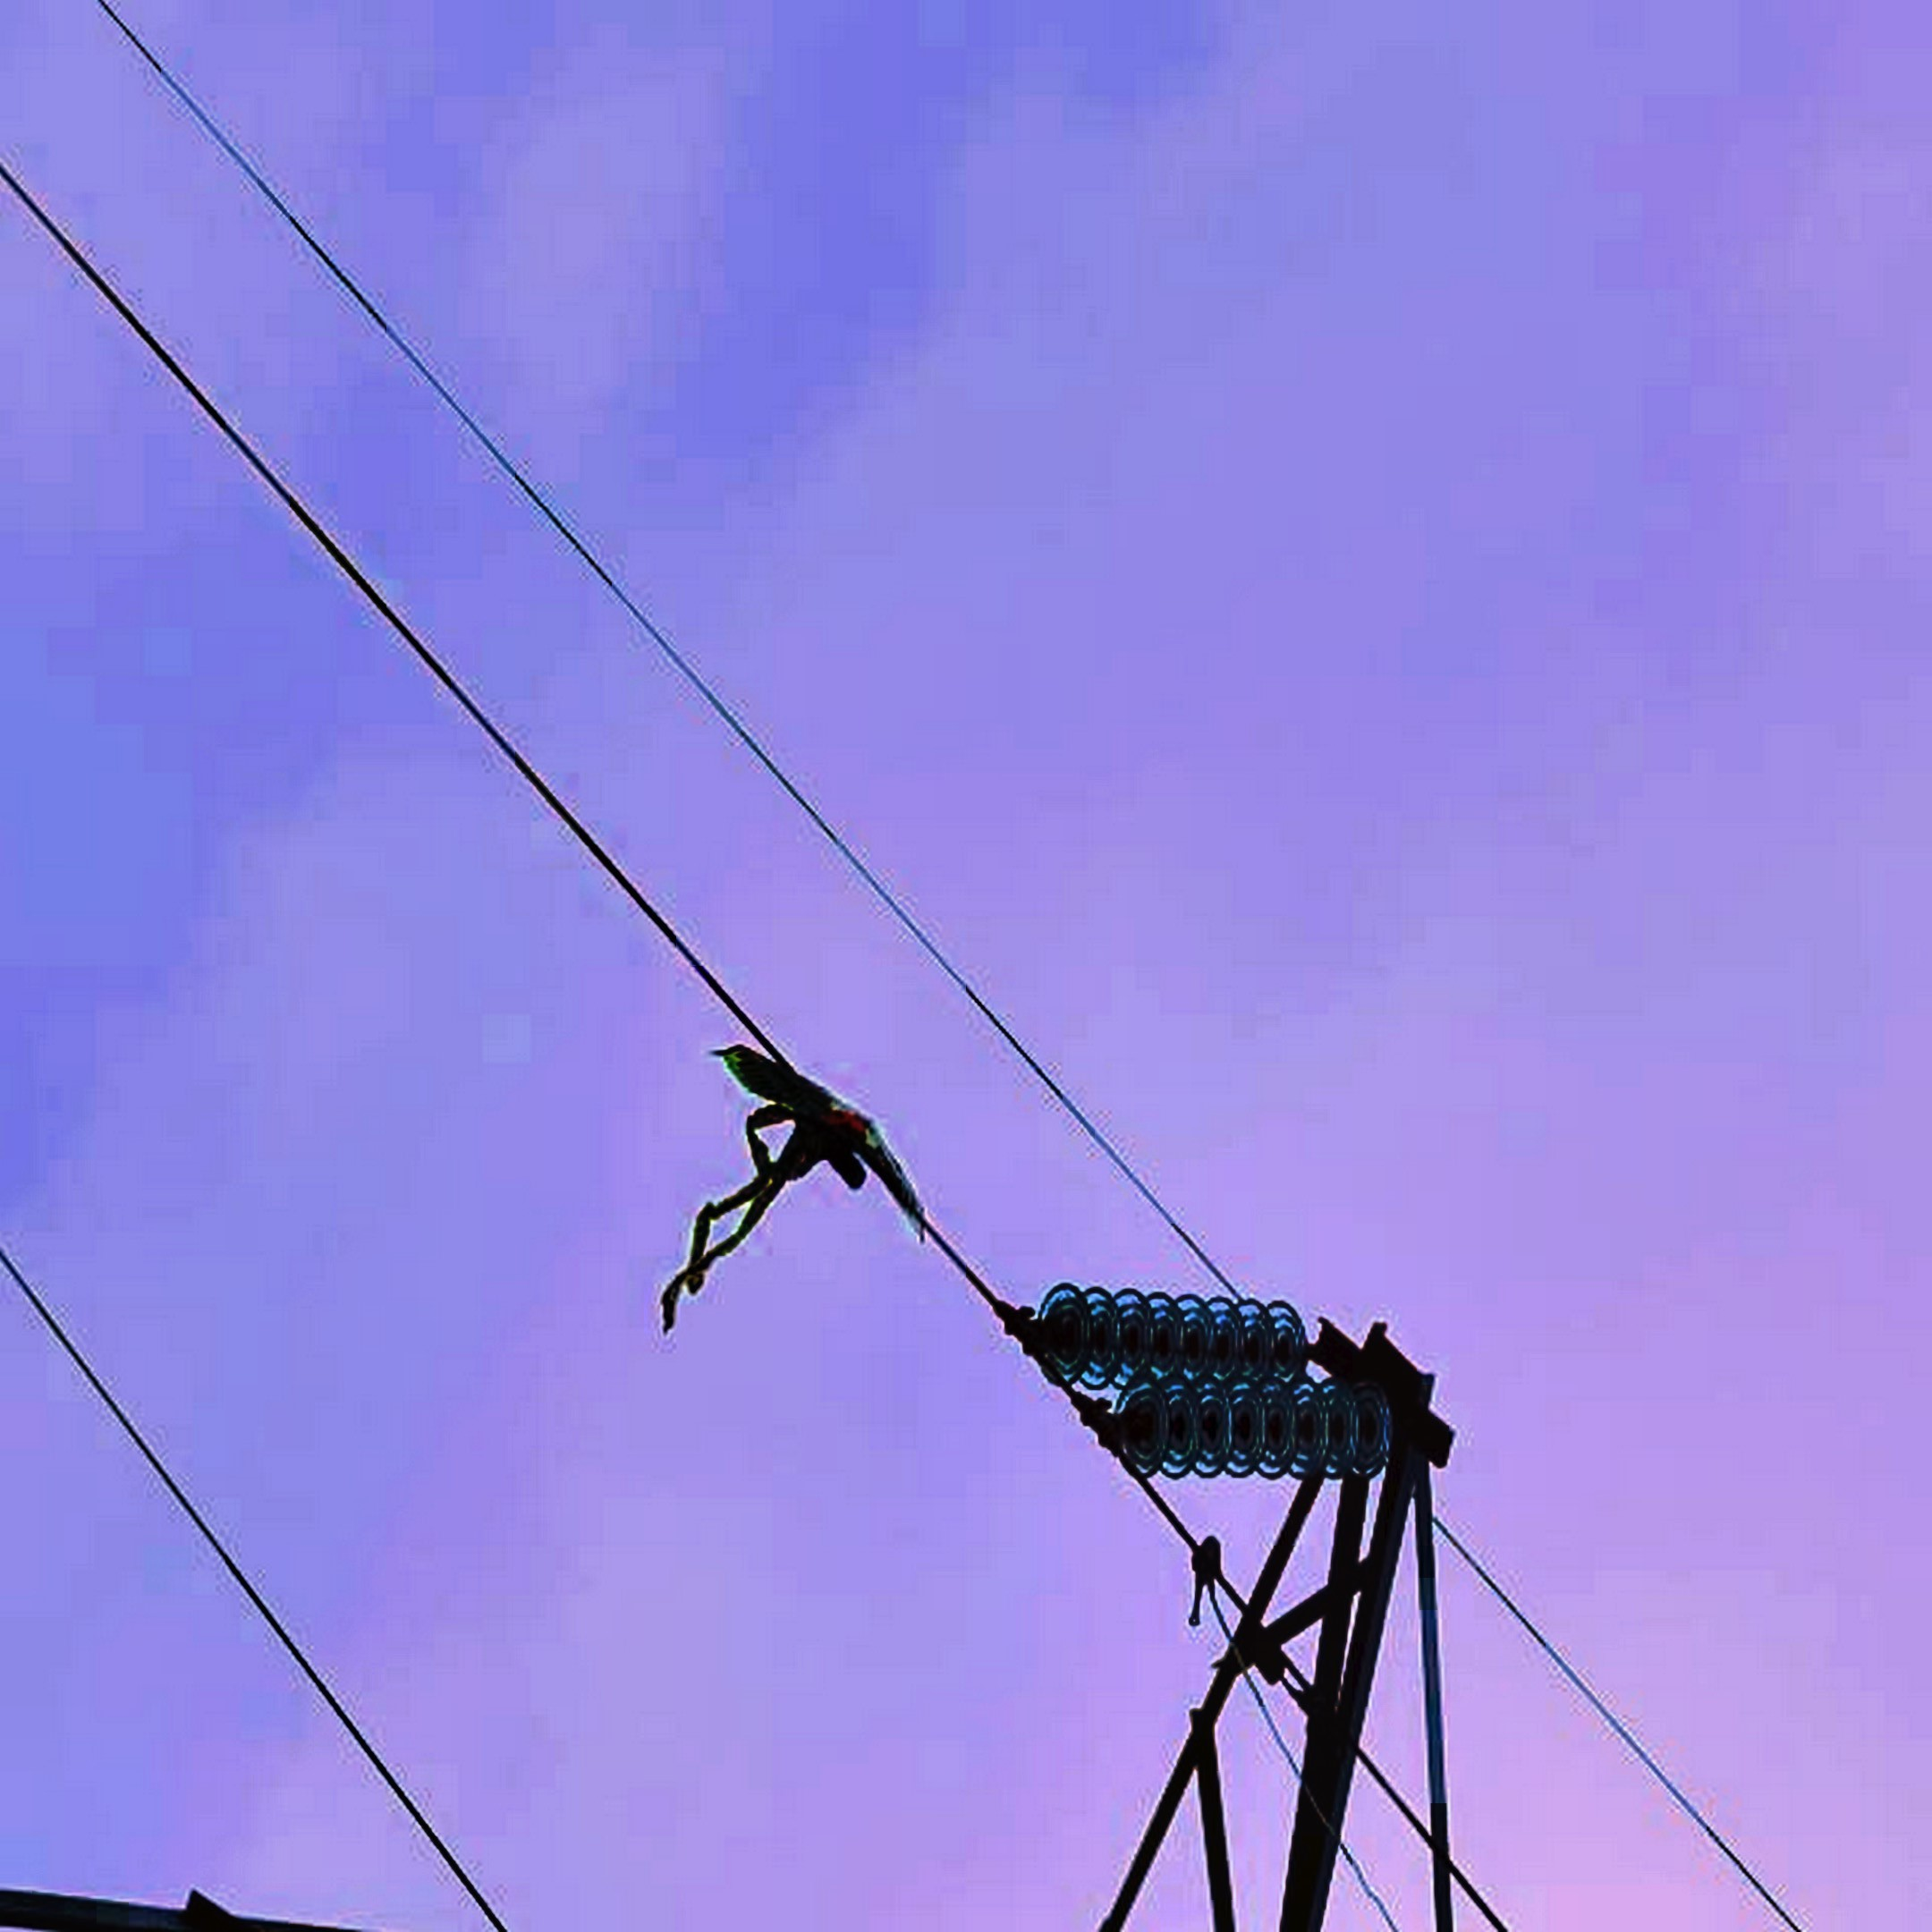wire foreign body: (665, 1003, 970, 1361)
